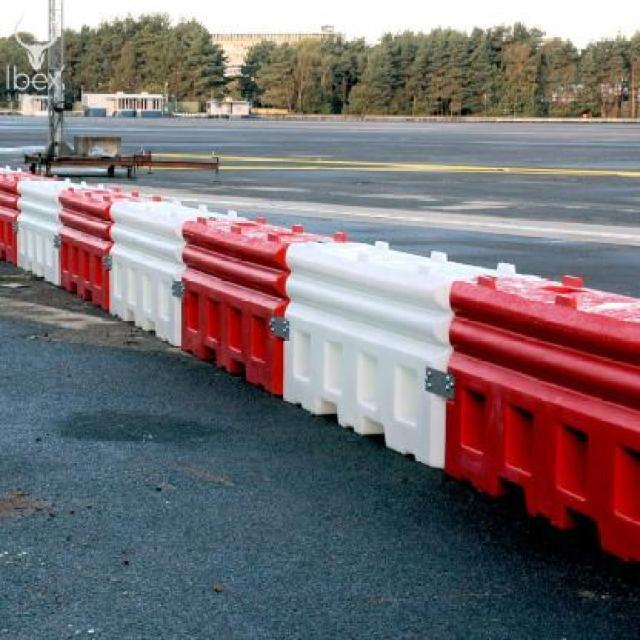fallen_object: (443, 256, 640, 595), (256, 210, 496, 483), (176, 205, 349, 423), (53, 173, 203, 352), (0, 163, 76, 295)
